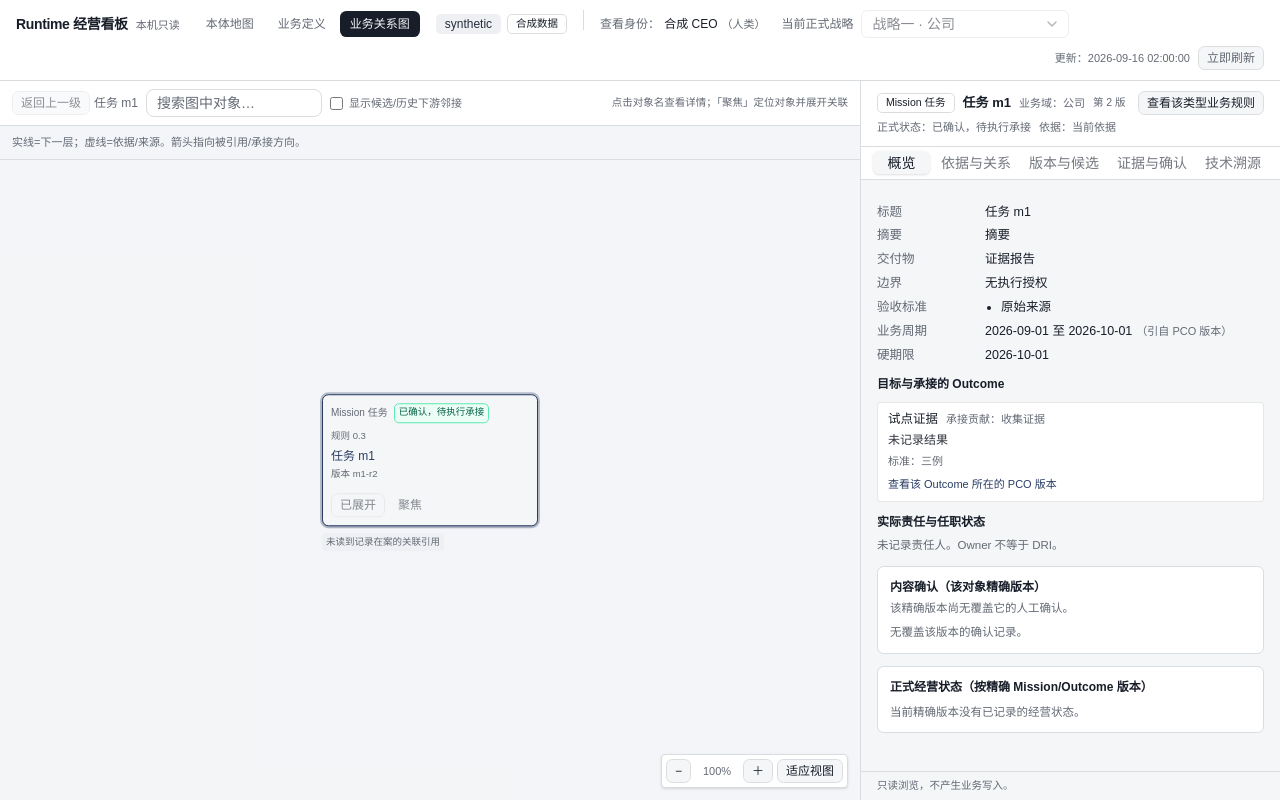
Scenario: detail paging › clears history and receipt pagination when the exact revision changes
Expected: the element with test id "detail-pane" is shown, [861,81,1279,799]
Click the tab "版本与候选".
click(1064, 162)  # box [1022,151,1106,174]
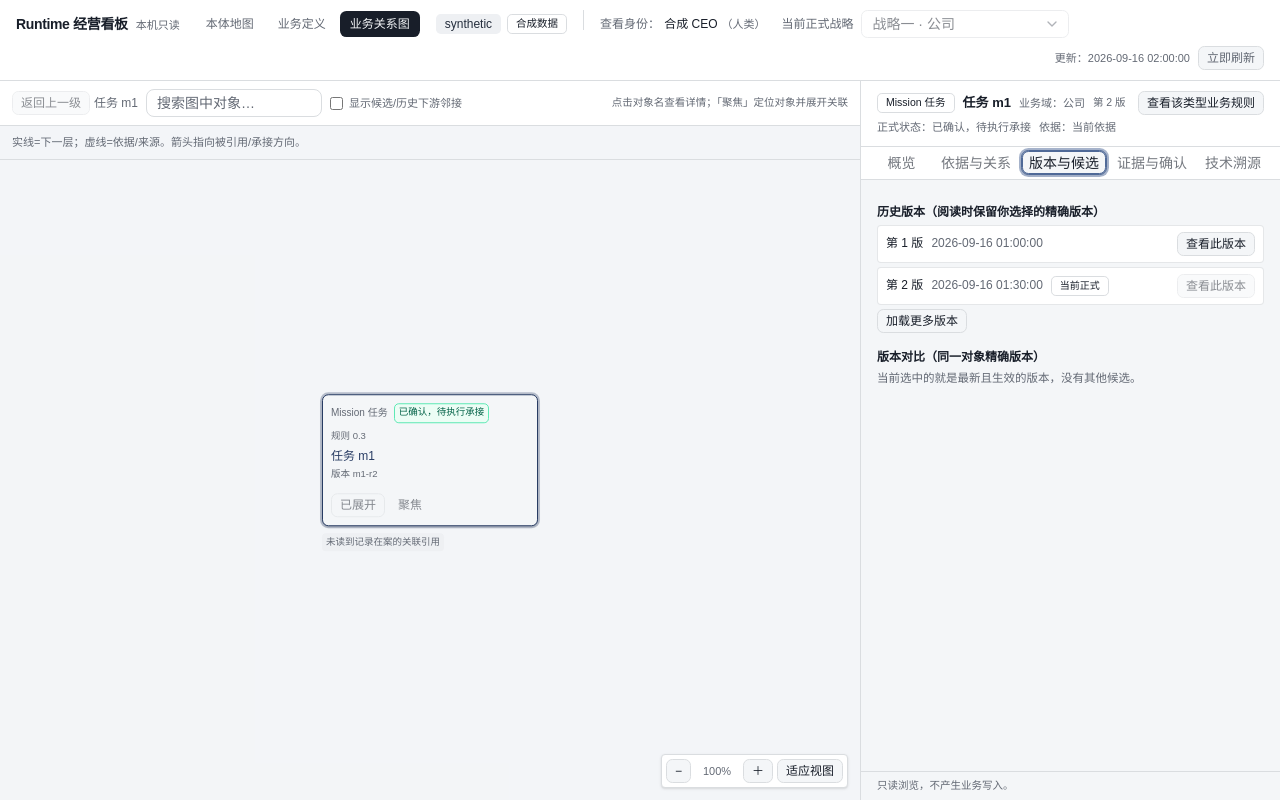
Expected: the button "加载更多版本" is shown, [877,309,967,333]
Click the tab "证据与确认".
click(1152, 162)  # box [1110,151,1194,174]
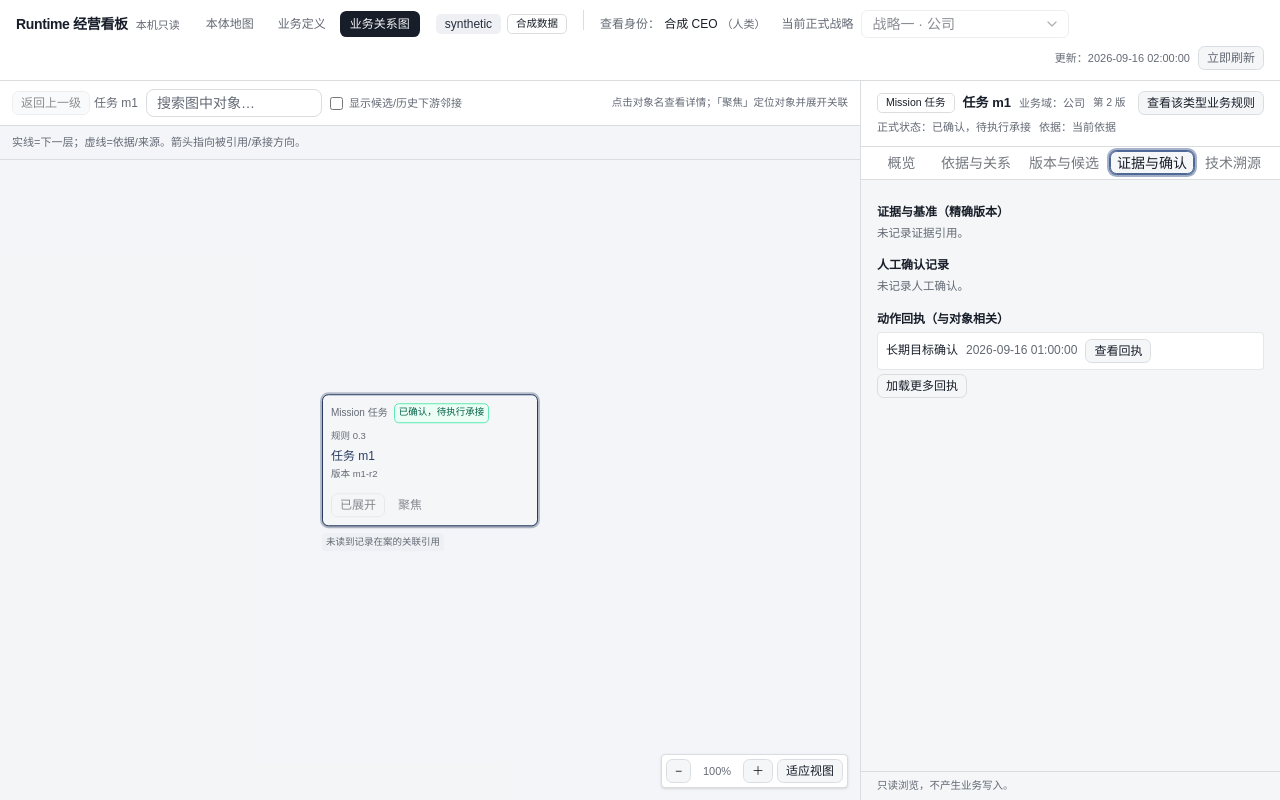
Expected: the button "加载更多回执" is shown, [877,374,967,398]
Note: Select the historical revision: both manual cursors must reset.
Click the tab "版本与候选".
click(1064, 162)  # box [1022,151,1106,174]
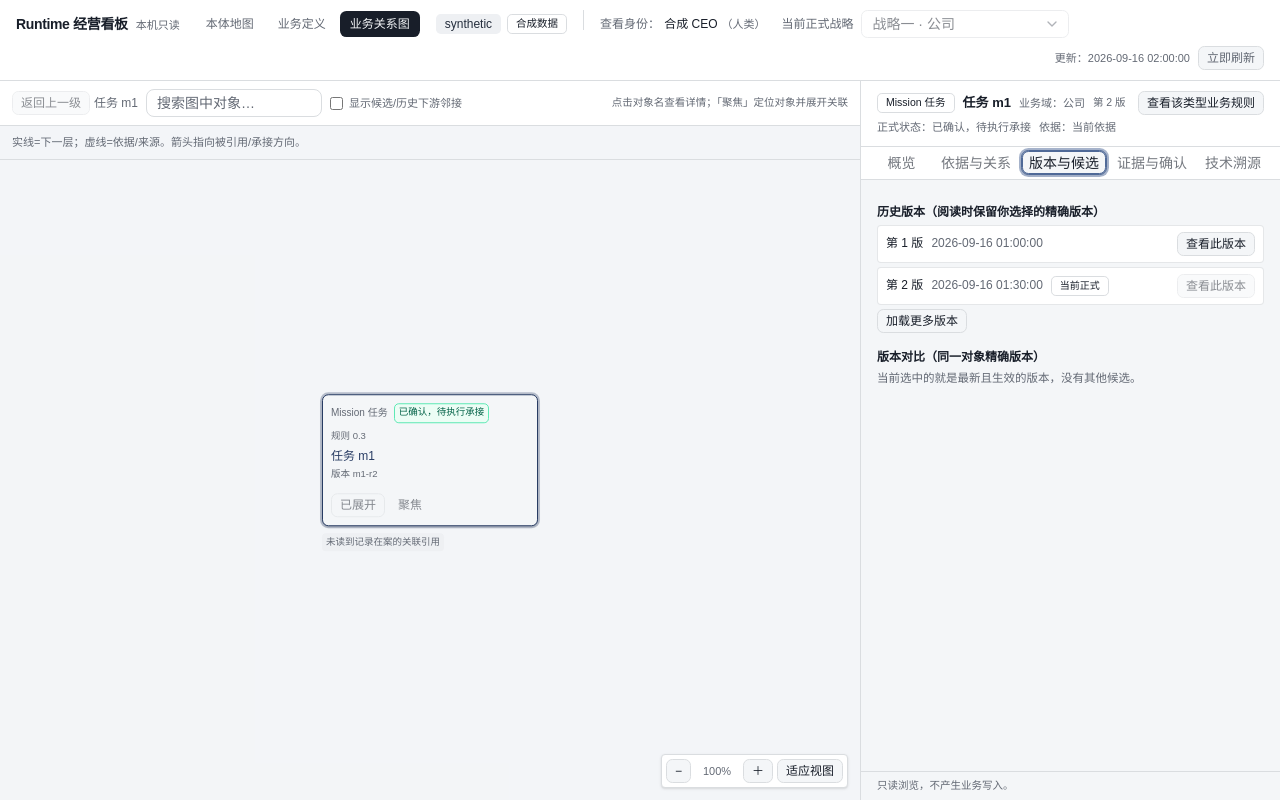
Click the button "查看此版本" next to "2026-09-16 01:00:00".
click(1216, 244)  # box [1177,232,1255,256]
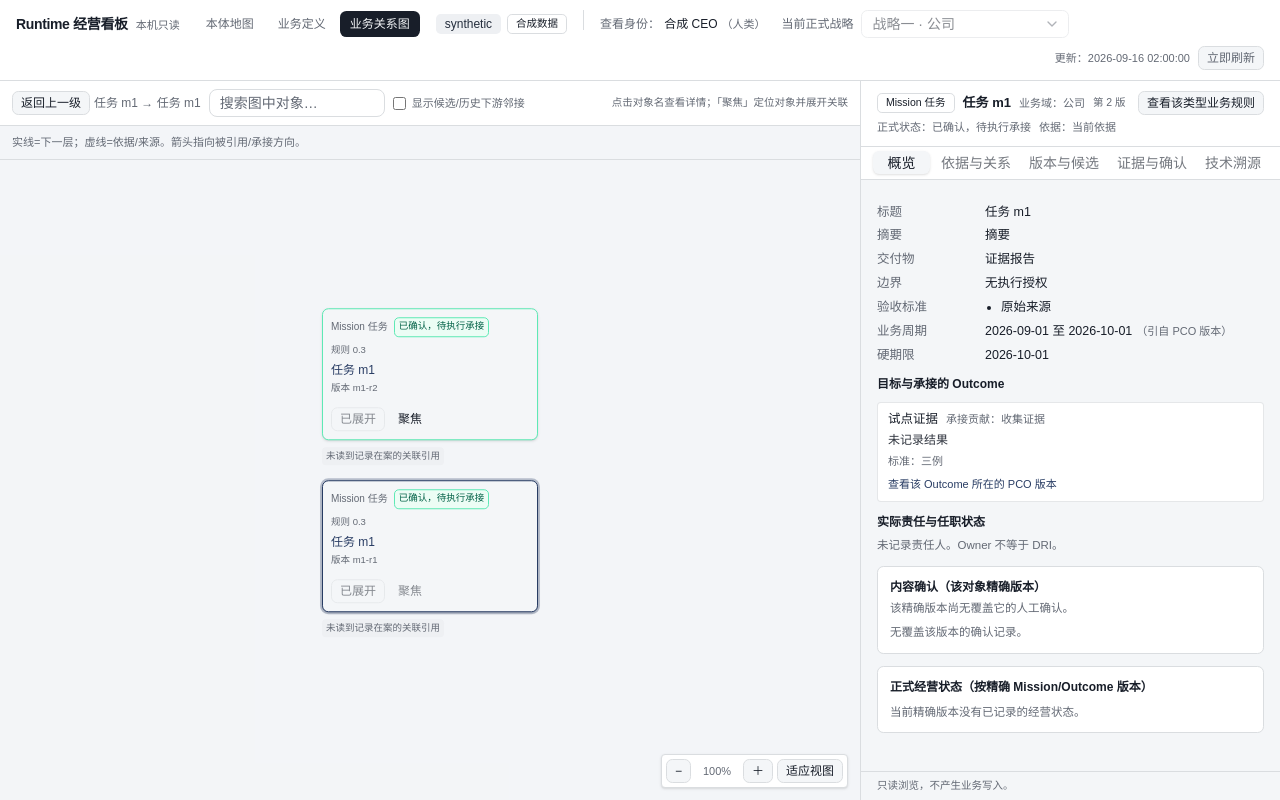
Expected: the button "加载更多版本" is gone
